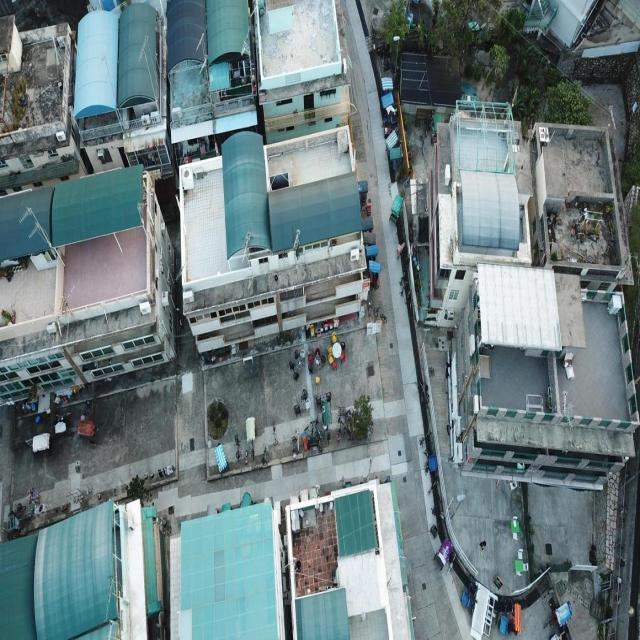tree: (350, 393, 374, 440), (207, 398, 228, 440)
